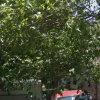Tree: (9, 6, 100, 90)
